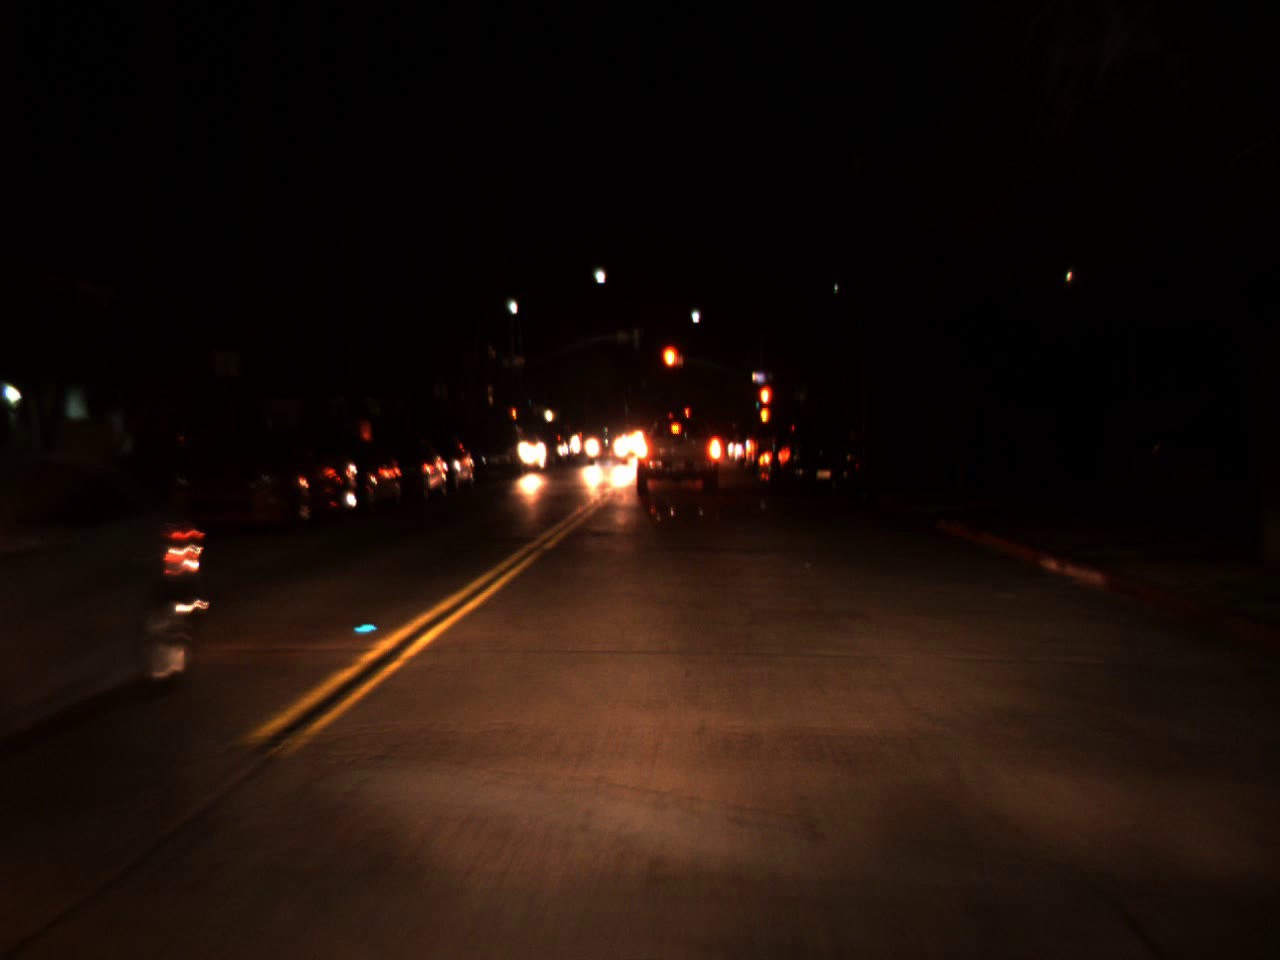stop: (660, 342, 681, 393), (757, 384, 772, 427)
